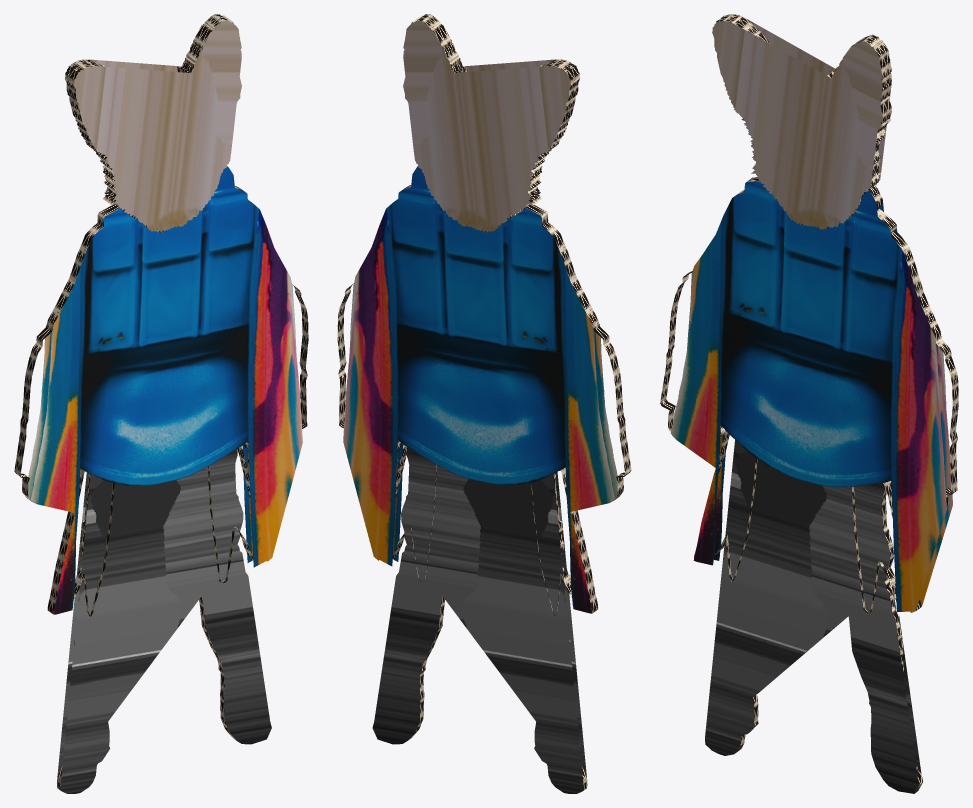
The model's file is MoeterV2.fbx.
3 views of the same model, side by side, from view 1: azimuth 30°, elevation 25°; view 2: azimuth 150°, elevation 25°; view 3: azimuth 330°, elevation 25° (orthographic).
Parts seen in each view (by area): view 1: Shirt, Pants, Head; view 2: Shirt, Pants, Head; view 3: Shirt, Pants, Head.
Boxes of the visible parts, x1,y1,x2,y2 form: Shirt: (14, 166, 308, 616); Pants: (57, 449, 271, 793); Head: (64, 14, 241, 232); Shirt: (337, 166, 631, 615); Pants: (372, 448, 587, 793); Head: (403, 14, 580, 232); Shirt: (660, 177, 958, 613); Pants: (705, 440, 922, 793); Head: (712, 14, 891, 229).
Bounding box in the file's own units: 103 × 253 × 5.67.
